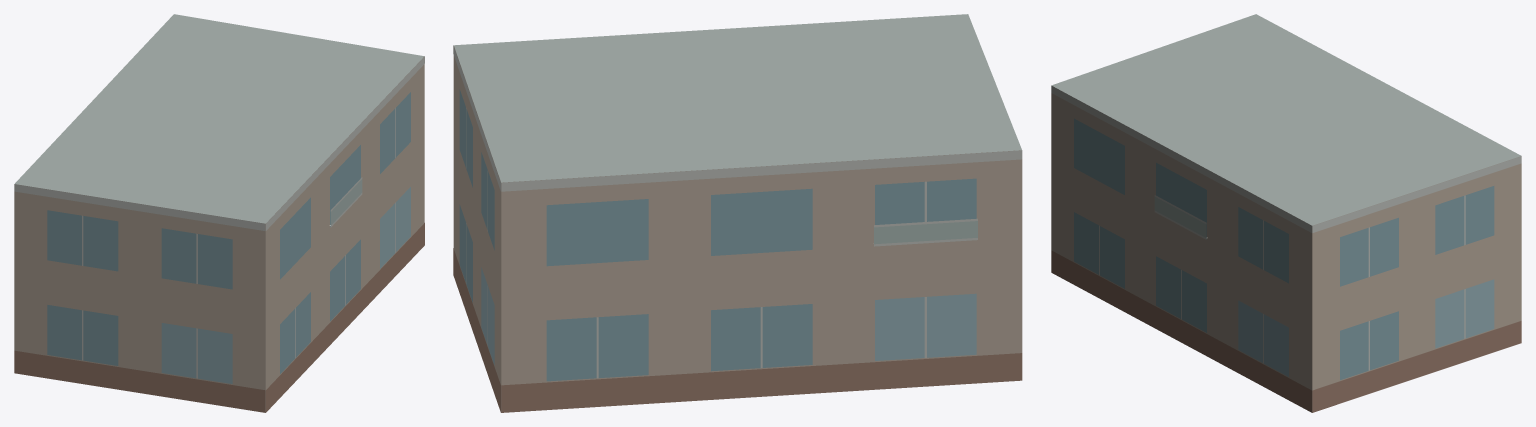
Rendered from survey-upis-32586569.glb.
3 renders of one model, left to right at view 1: azimuth 30°, elevation 25°; view 2: azimuth 150°, elevation 25°; view 3: azimuth 270°, elevation 25°, orthographic. The views are drawn at different scales.
Visible parts, largest first — view 1: survey-upis-32586569.tmp; view 2: survey-upis-32586569.tmp; view 3: survey-upis-32586569.tmp.
Part boxes in pixels (x1,y1,x2,y2): survey-upis-32586569.tmp: [14, 14, 424, 412]; survey-upis-32586569.tmp: [453, 14, 1022, 412]; survey-upis-32586569.tmp: [1051, 14, 1521, 412].
Bounding box in the file's own units: 14.81 × 6.1 × 13.9.
